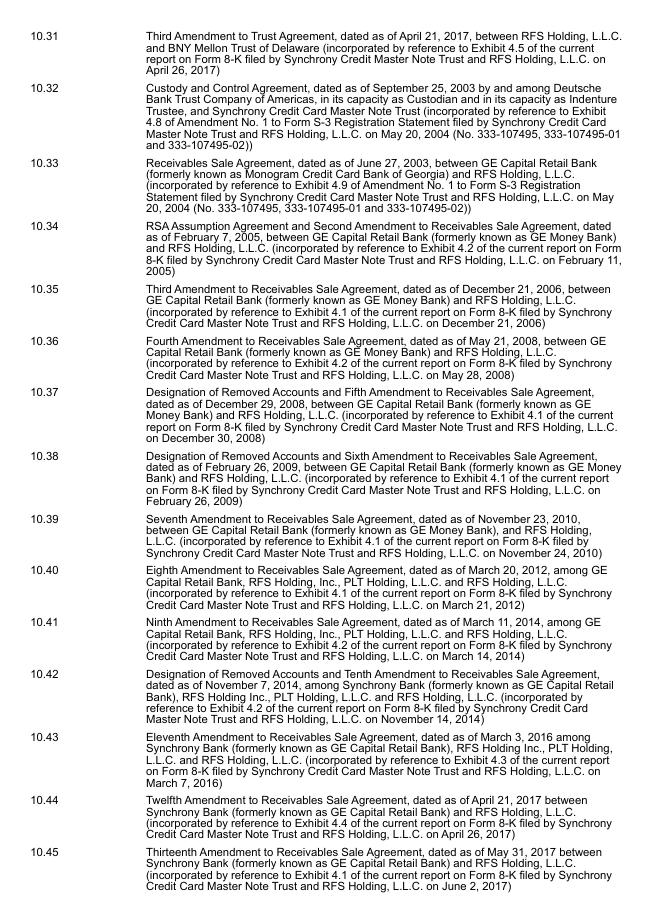table: (29, 29, 621, 891)
table column: (101, 29, 621, 891), (29, 29, 101, 891)
table row: (29, 78, 621, 152), (29, 215, 621, 279), (29, 152, 621, 215), (29, 382, 621, 445), (29, 445, 621, 508), (29, 664, 621, 727), (29, 727, 621, 790), (29, 330, 621, 382), (29, 508, 621, 560), (29, 560, 621, 612), (29, 612, 621, 664), (29, 790, 621, 842), (29, 279, 621, 330), (29, 29, 621, 78), (29, 842, 621, 891)
